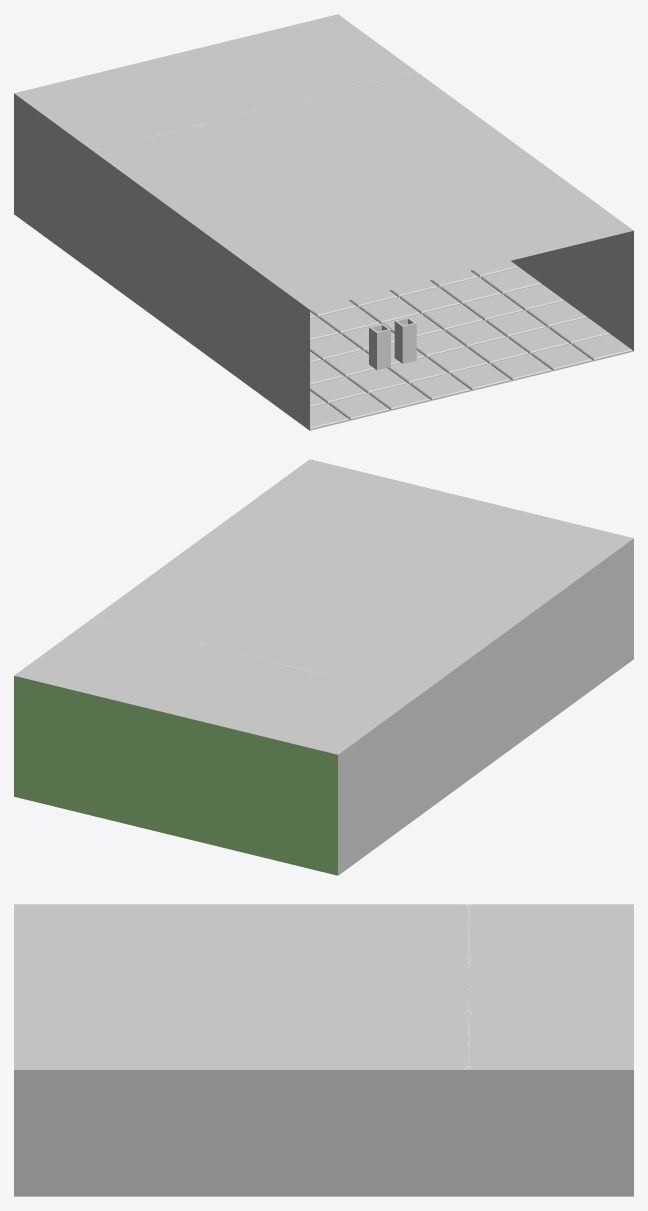
File: Env.fbx
3 renders of one model, top to bottom at view 1: azimuth 30°, elevation 25°; view 2: azimuth 150°, elevation 25°; view 3: azimuth 270°, elevation 25°, orthographic. The views are drawn at different scales.
Visible parts, largest first — view 1: Ceiling, WallsAndFloor, WallsAndFloor.001, ThrowPod1, ThrowPod2; view 2: Ceiling, WallsAndFloor; view 3: Ceiling, WallsAndFloor.
Part boxes in pixels (left/top/right/bottom): Ceiling: left=14, top=14, right=633, bottom=309; WallsAndFloor: left=14, top=93, right=633, bottom=430; WallsAndFloor.001: left=310, top=261, right=633, bottom=430; ThrowPod1: left=394, top=317, right=416, bottom=363; ThrowPod2: left=369, top=323, right=390, bottom=369; Ceiling: left=14, top=459, right=633, bottom=754; WallsAndFloor: left=14, top=538, right=633, bottom=875; Ceiling: left=14, top=904, right=633, bottom=1069; WallsAndFloor: left=14, top=1070, right=633, bottom=1196.
Bounding box in the file's own units: 600 × 214 × 948.
